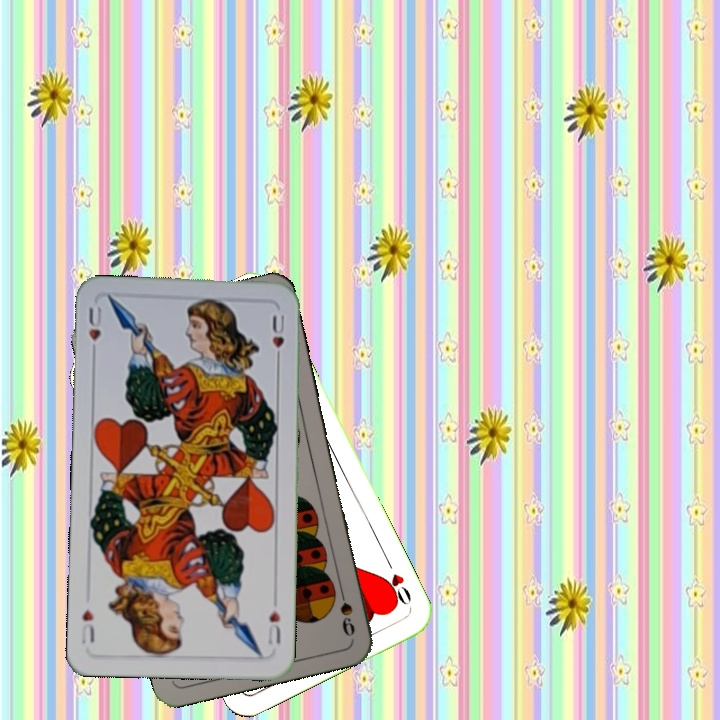HO: (379, 554, 415, 610)
HU: (84, 302, 104, 360), (264, 606, 284, 647)
S9: (334, 580, 358, 639)
